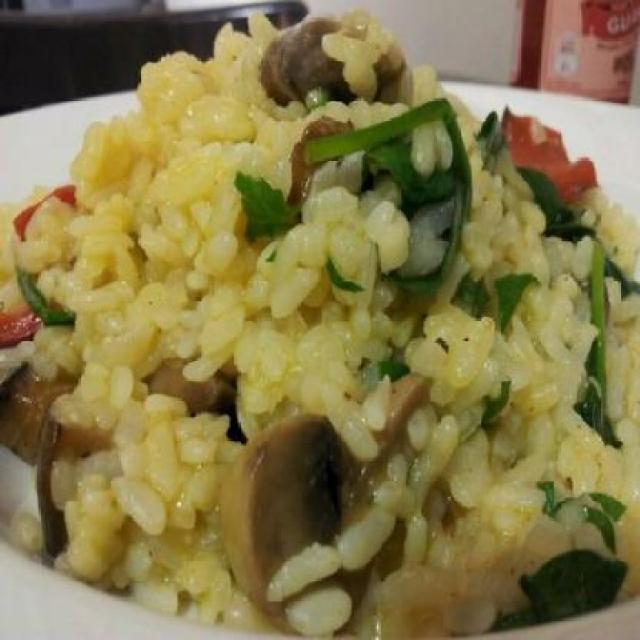Risotto: (10, 18, 630, 617)
